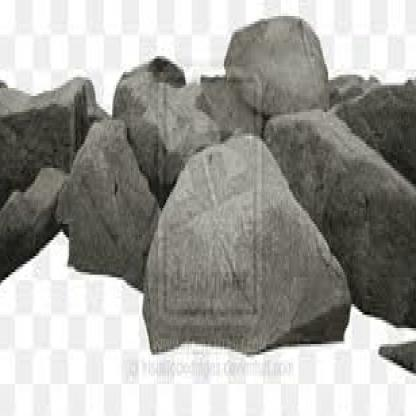Metamorphic_Quartize: (143, 125, 355, 355), (58, 107, 170, 304)
